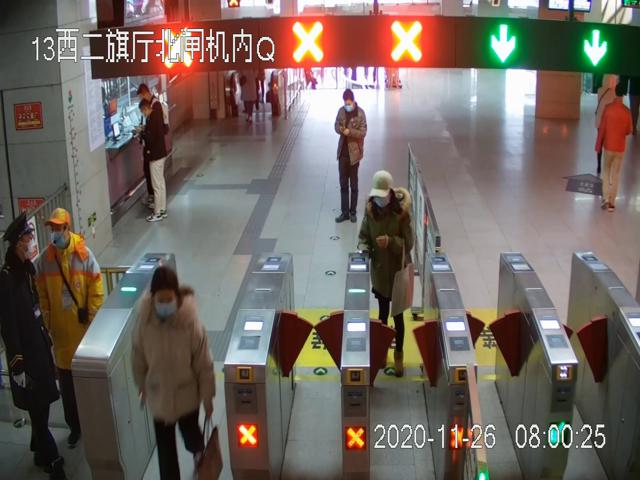person: (122, 267, 221, 480), (0, 213, 64, 479), (38, 204, 106, 445), (363, 168, 420, 378), (136, 81, 176, 206), (334, 87, 370, 225), (134, 100, 173, 226), (600, 80, 633, 215), (592, 66, 620, 189)
